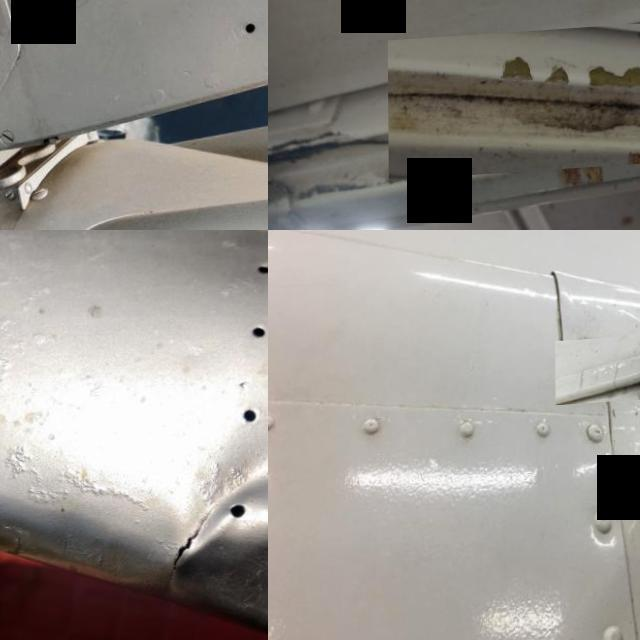Crack: (387, 18, 640, 182), (148, 494, 234, 616), (554, 338, 640, 409)
Dent: (155, 393, 268, 640)
